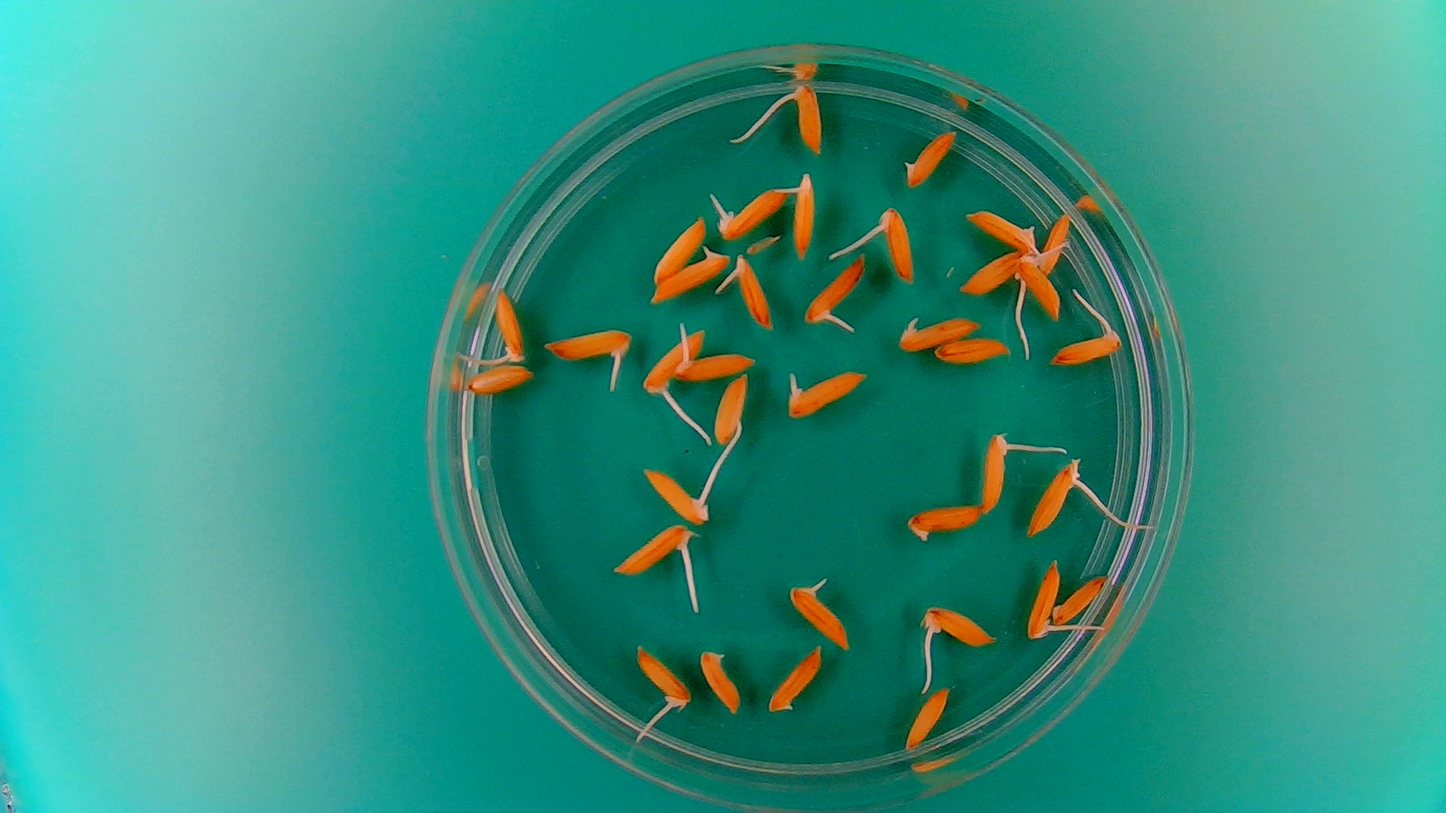no: (766, 641, 826, 716), (651, 215, 706, 286), (963, 208, 1041, 254), (904, 500, 985, 544), (901, 126, 957, 189), (697, 647, 743, 716), (905, 685, 952, 751), (1051, 572, 1109, 625), (711, 371, 748, 445), (932, 335, 1012, 366), (465, 364, 535, 396), (1039, 213, 1073, 278)
yes: (1025, 454, 1093, 540), (802, 250, 869, 329), (649, 245, 733, 306), (638, 325, 702, 399), (638, 464, 715, 525), (782, 367, 866, 420), (787, 585, 849, 653), (726, 247, 773, 336), (711, 187, 789, 240), (633, 642, 691, 709), (614, 527, 694, 575), (1049, 316, 1125, 366), (978, 428, 1020, 516), (543, 326, 634, 365), (923, 601, 999, 647), (894, 312, 981, 352), (955, 248, 1030, 294), (873, 209, 918, 283), (1014, 255, 1063, 322), (670, 348, 759, 382), (1026, 556, 1061, 641), (788, 166, 819, 261), (493, 286, 528, 363), (791, 81, 825, 151)
